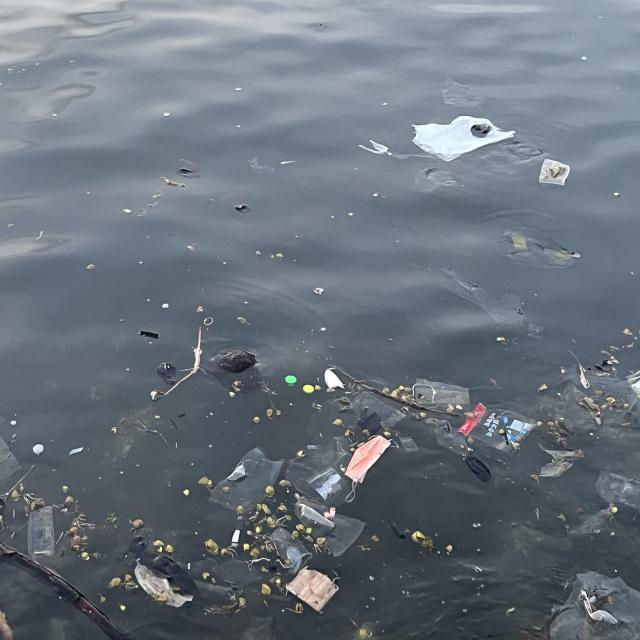foam: (326, 370, 345, 391)
plastic bag: (412, 114, 514, 161)
